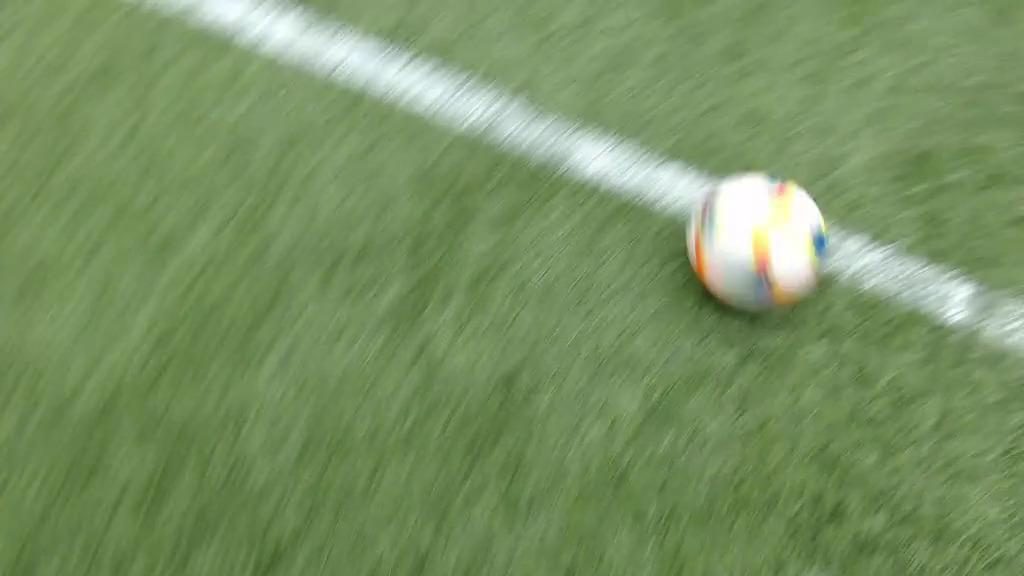ball: (688, 173, 825, 314)
